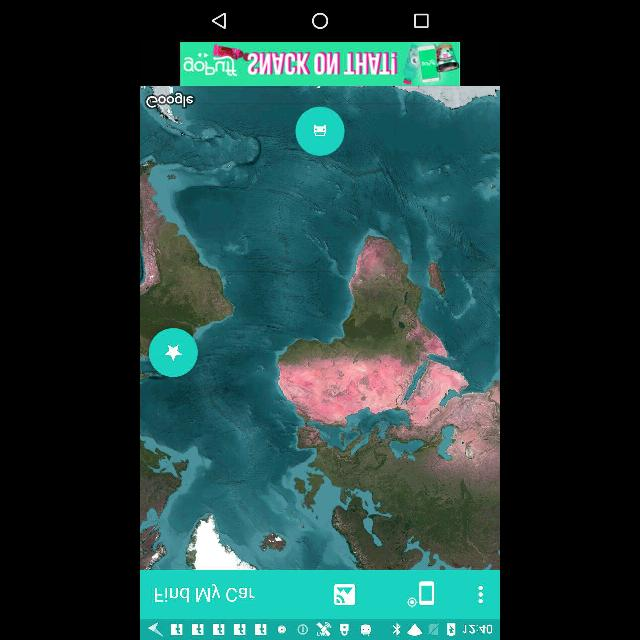icon: (407, 581, 435, 607), (335, 584, 355, 606), (312, 13, 328, 29), (212, 13, 226, 29), (414, 14, 428, 28), (478, 584, 484, 604)
iframe: (180, 42, 460, 86)
map: (140, 86, 500, 570)
panel: (140, 1, 500, 39)
text: (154, 584, 254, 602)
toolbar: (141, 571, 499, 619)
uppertaskbar: (140, 618, 500, 640)
